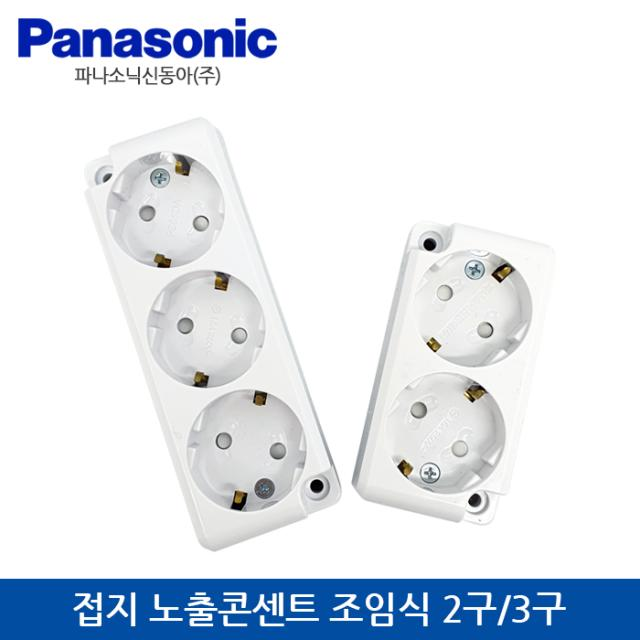typeb: (75, 125, 343, 564), (341, 187, 596, 565)
